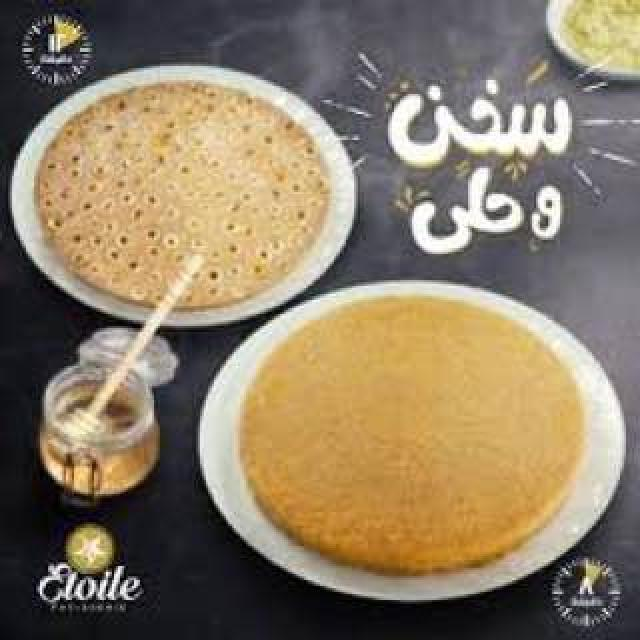pasposa: (242, 292, 594, 577), (28, 75, 342, 310)
